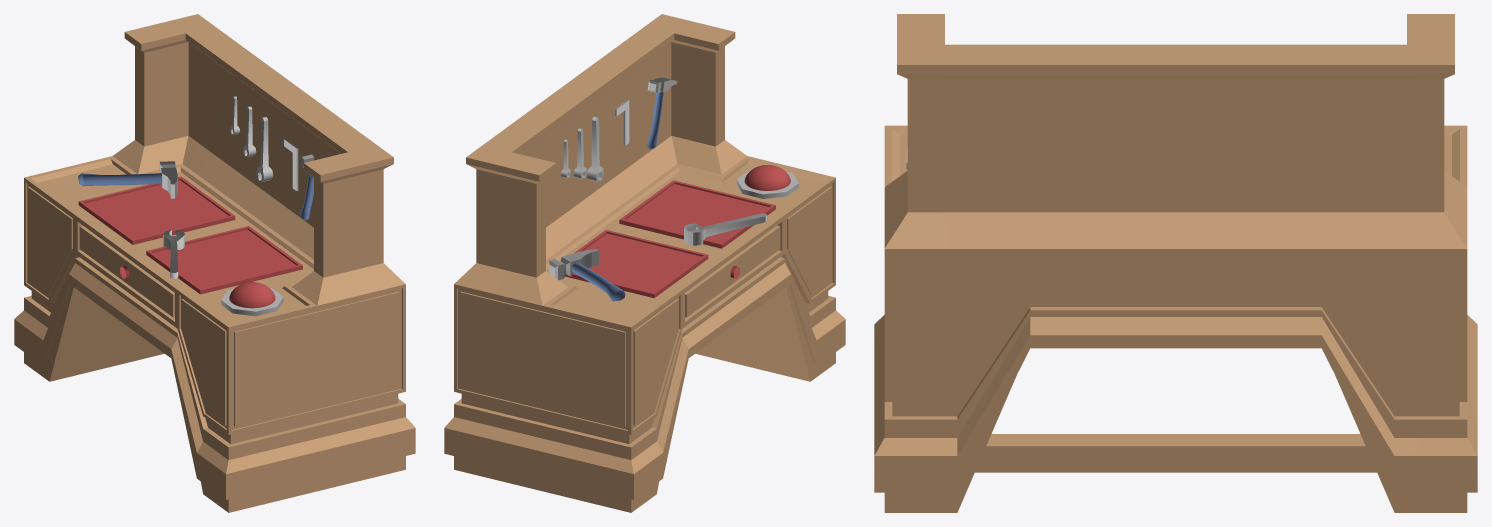
File: workshop.fbx
3 renders of one model, left to right at view 1: azimuth 30°, elevation 25°; view 2: azimuth 150°, elevation 25°; view 3: azimuth 270°, elevation 25°, orthographic. The views are drawn at different scales.
Visible parts, largest first — view 1: Workbenck; view 2: Workbenck; view 3: Workbenck.
Part boxes in pixels (<box>): Workbenck: <box>14,14,415,512</box>; Workbenck: <box>444,14,845,512</box>; Workbenck: <box>874,14,1477,512</box>.
Size of the model in its own units: 107 by 168 by 207.
